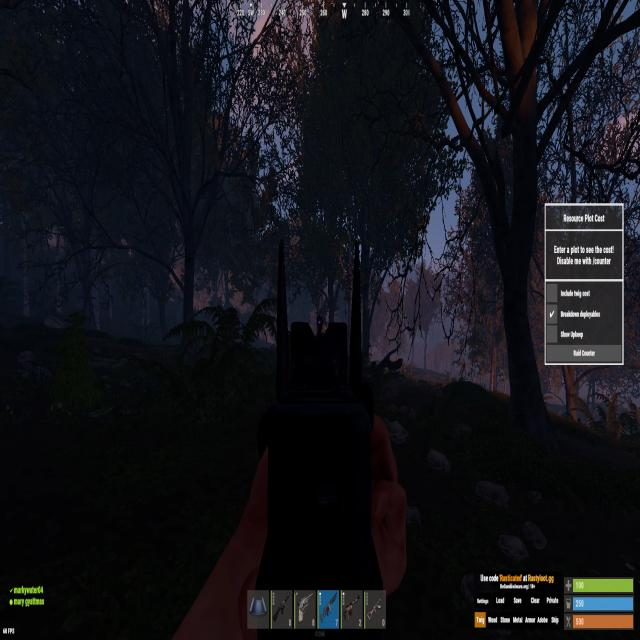Player: (316, 309, 324, 338)
